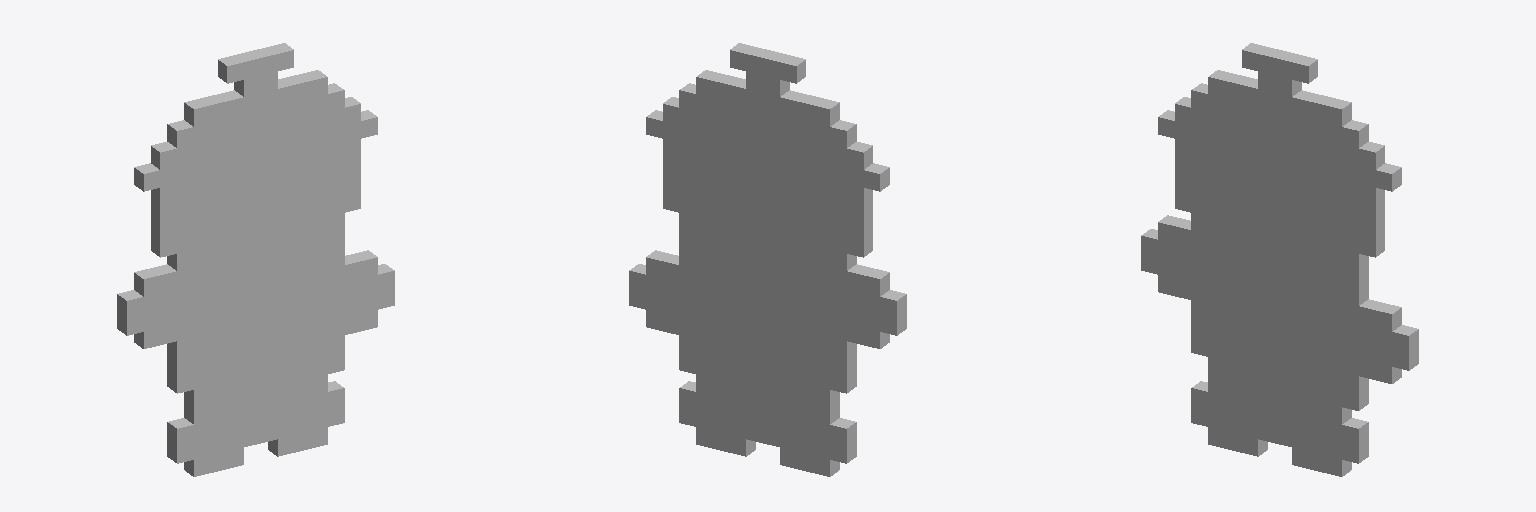
The model's file is grandma walk 1.obj.
3 views of the same model, side by side, from view 1: azimuth 30°, elevation 25°; view 2: azimuth 150°, elevation 25°; view 3: azimuth 330°, elevation 25° (orthographic).
Parts seen in each view (by area): view 1: object 1; view 2: object 1; view 3: object 1.
Part boxes in pixels (left/top/right/bottom): object 1: left=117, top=43, right=394, bottom=476; object 1: left=629, top=43, right=906, bottom=476; object 1: left=1141, top=43, right=1418, bottom=476.
Size of the model in its own units: 1.6 by 2.3 by 0.1.